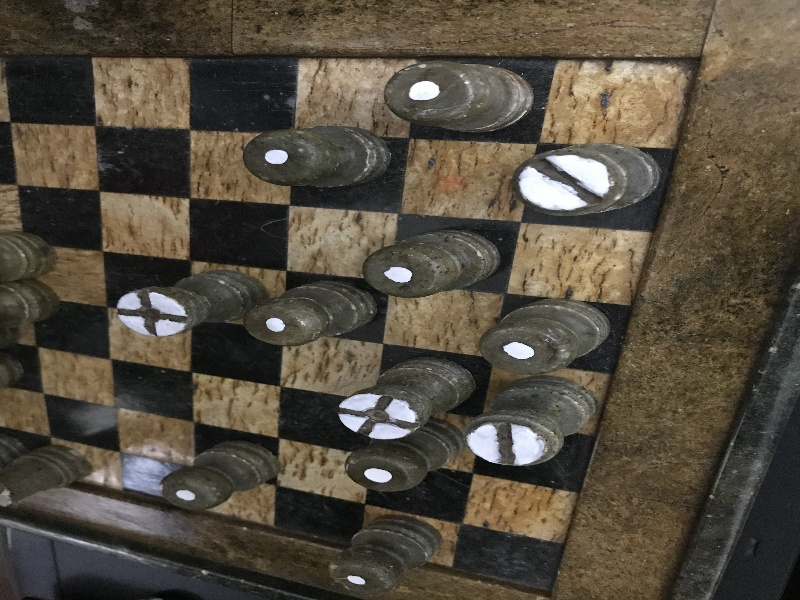WhiteBishop: (339, 359, 476, 440), (116, 270, 266, 337)
WhitePawn: (385, 61, 533, 132), (479, 297, 610, 374), (362, 229, 499, 299), (243, 127, 390, 189), (328, 515, 439, 594), (244, 280, 376, 346), (346, 419, 464, 492), (161, 442, 282, 511)
WhiteRook: (466, 377, 596, 469), (514, 144, 661, 218)
